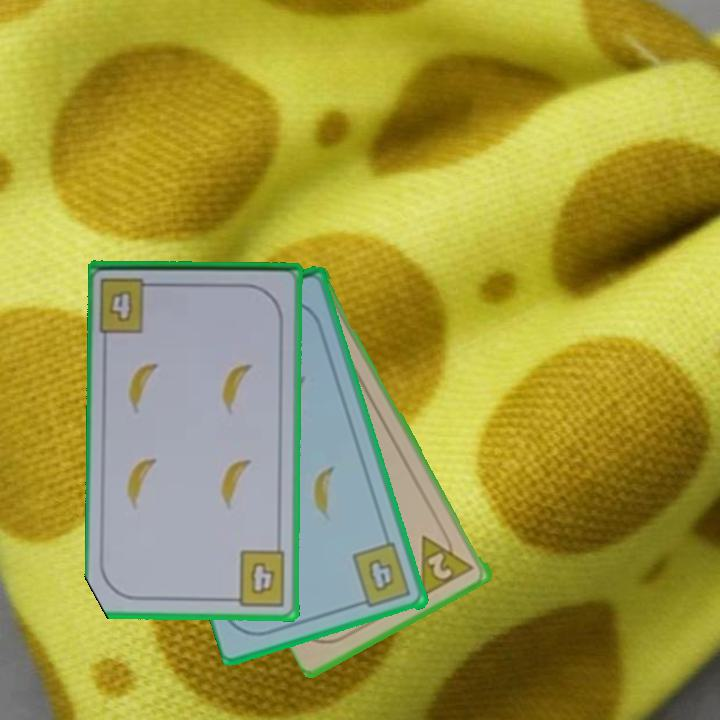2p: (417, 524, 477, 599)
4b: (349, 539, 415, 611), (97, 274, 162, 335), (226, 547, 288, 609)
